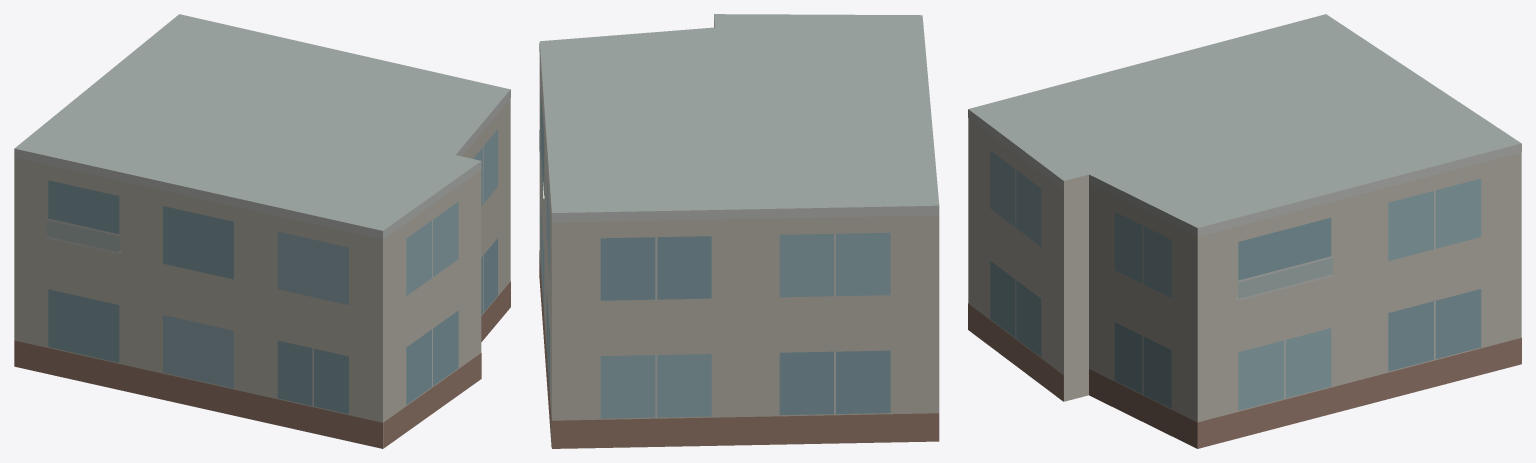
The model's file is survey-upis-32583481.glb.
3 views of the same model, side by side, from view 1: azimuth 30°, elevation 25°; view 2: azimuth 150°, elevation 25°; view 3: azimuth 270°, elevation 25° (orthographic). The views are drawn at different scales.
Visible parts, largest first — view 1: survey-upis-32583481.tmp; view 2: survey-upis-32583481.tmp; view 3: survey-upis-32583481.tmp.
Boxes of the visible parts, x1,y1,x2,y2 form: survey-upis-32583481.tmp: (14,14,510,448); survey-upis-32583481.tmp: (539,14,939,448); survey-upis-32583481.tmp: (968,14,1521,448).
Bounding box in the file's own units: 12.69 × 6.1 × 13.87.
